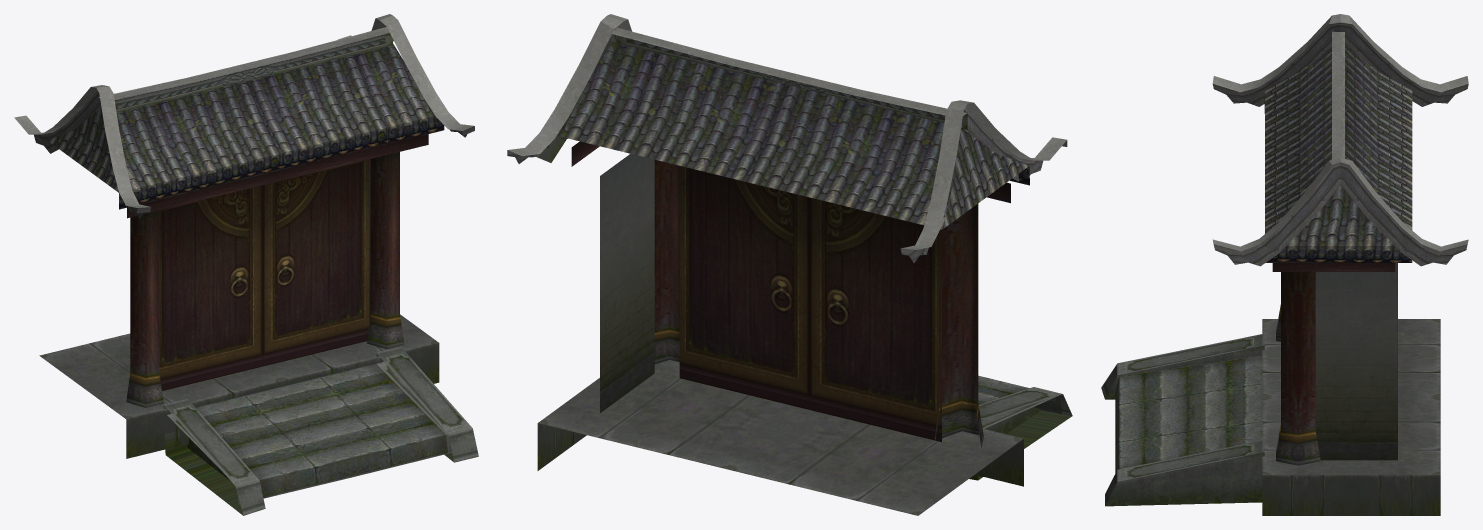
File: yw_wuliangshan_jianhugongrukou.FBX
The picture shows the model from 3 angles, left to right: view 1: azimuth 30°, elevation 25°; view 2: azimuth 150°, elevation 25°; view 3: azimuth 270°, elevation 25°; orthographic projection. The views are drawn at different scales.
Parts seen in each view (by area): view 1: yw_wuliangshan_jianhugongrukou; view 2: yw_wuliangshan_jianhugongrukou; view 3: yw_wuliangshan_jianhugongrukou.
Part boxes in pixels (x1,y1,x2,y2): yw_wuliangshan_jianhugongrukou: (14,14,478,515); yw_wuliangshan_jianhugongrukou: (507,14,1072,515); yw_wuliangshan_jianhugongrukou: (1101,14,1468,515).
Size of the model in its own units: 829 by 819 by 761.
